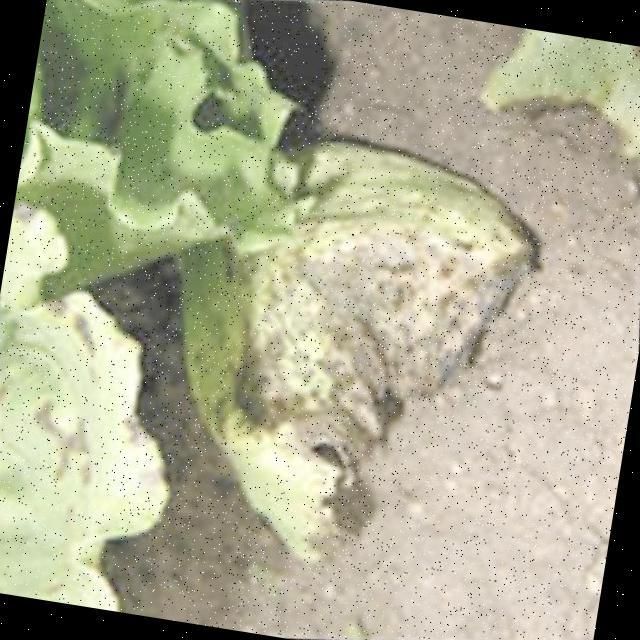Bacterial: (205, 179, 466, 406)
